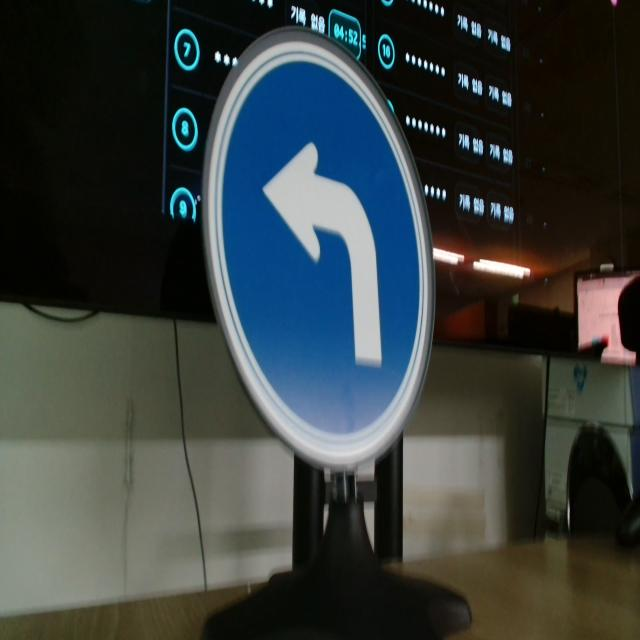left_direction: (197, 22, 437, 466)
